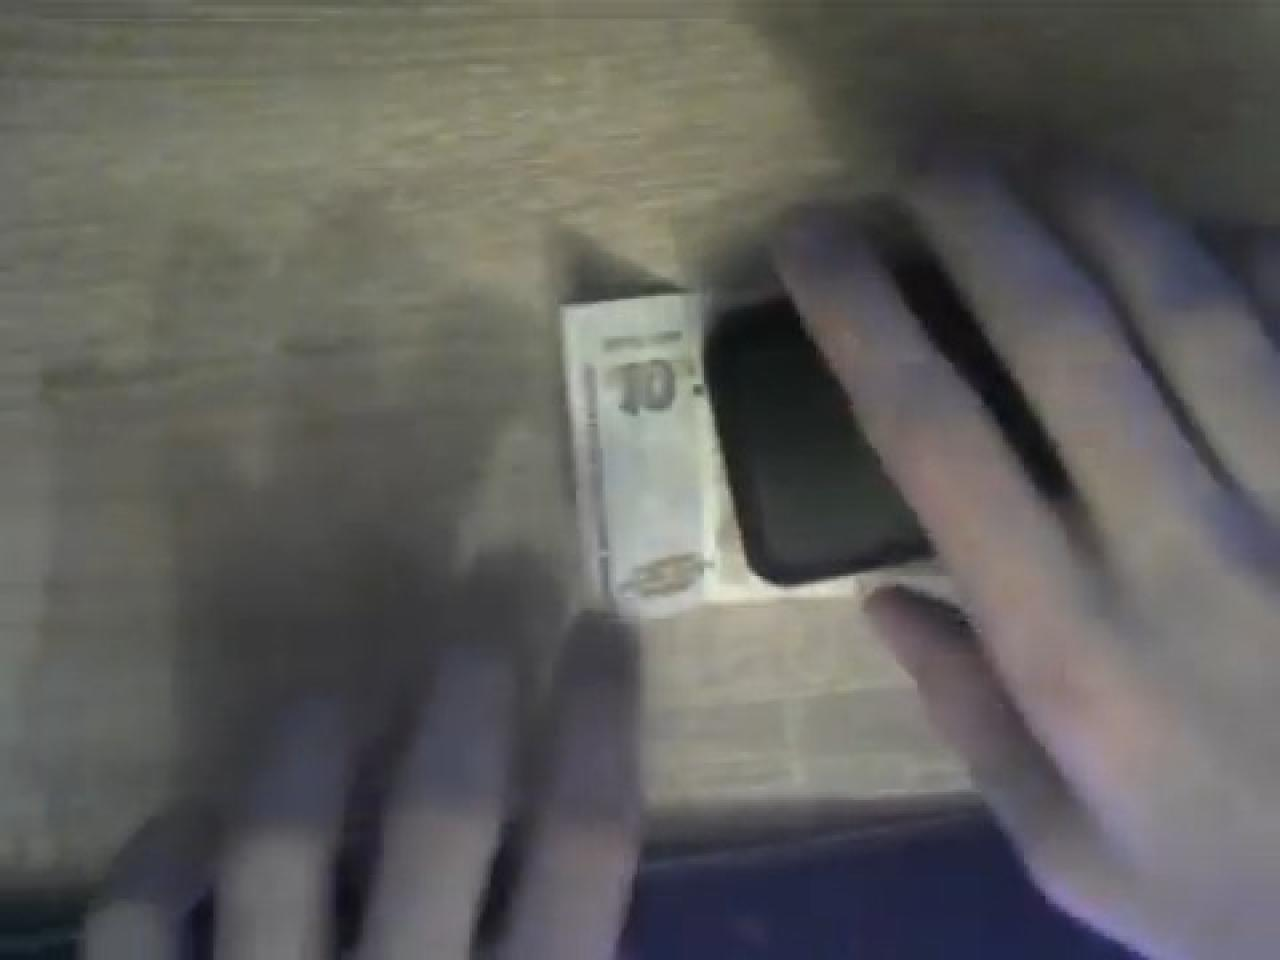10leva: (554, 288, 800, 621)
